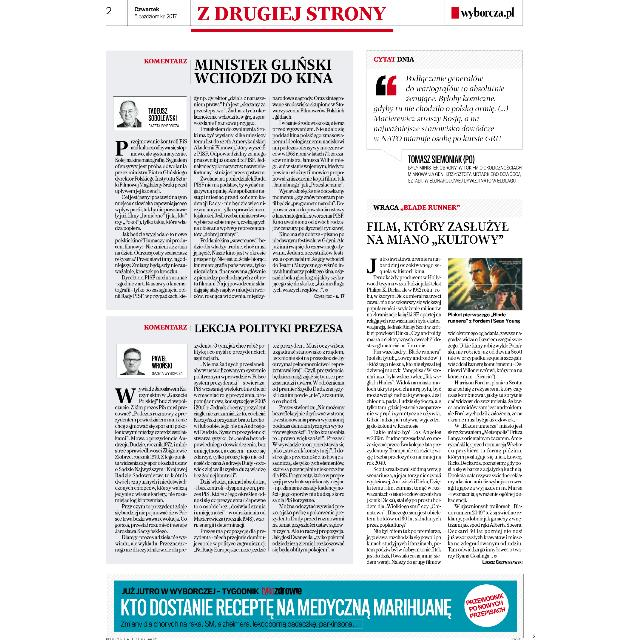article: (107, 53, 346, 304), (364, 201, 524, 569), (108, 319, 346, 557)
